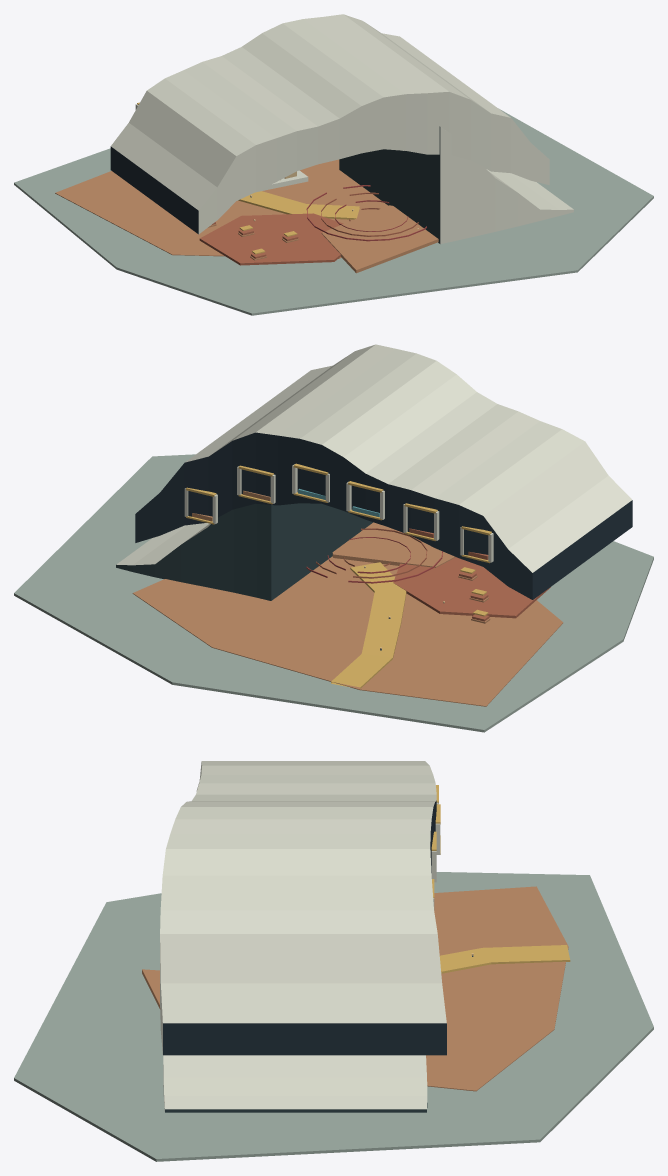
Rendered from a45_civic_pocket_fold.obj.
The picture shows the model from 3 angles, top to bottom: view 1: azimuth 30°, elevation 25°; view 2: azimuth 150°, elevation 25°; view 3: azimuth 270°, elevation 25°; orthographic projection. The views are drawn at different scales.
Bounding box in the file's own units: 193 × 60.88 × 180.
